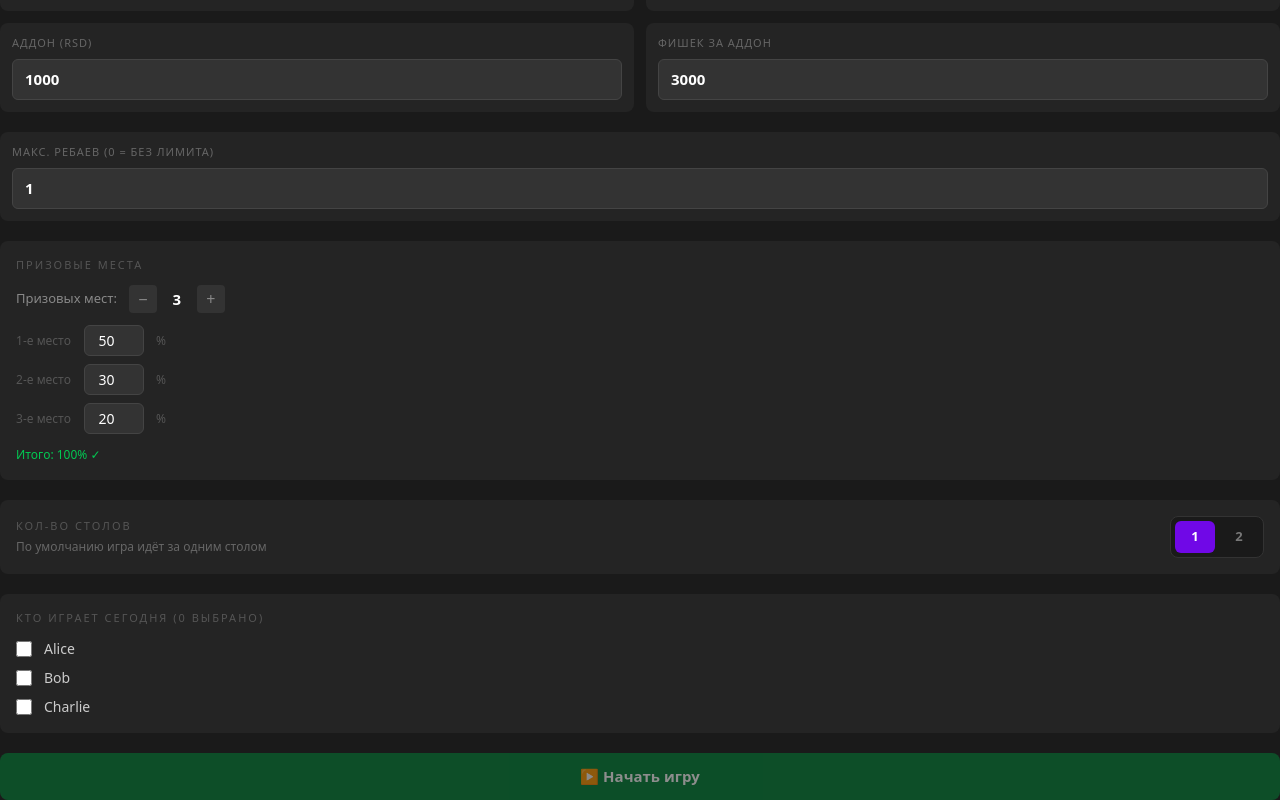
Test case: SessionSetup › selecting 2 players enables start button
(page scrolled)
Click the checkbox labelled "Alice": [24, 648] box [16,640,32,656]
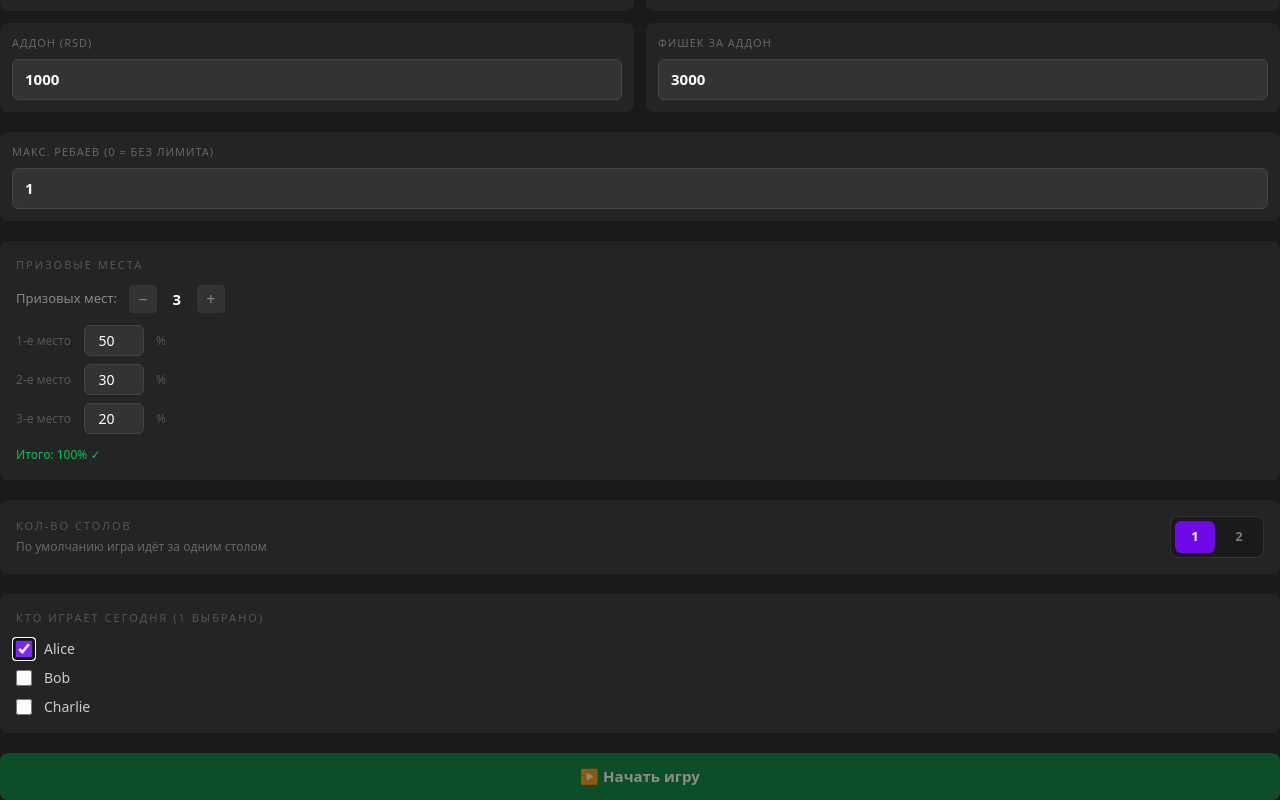
Click the checkbox labelled "Bob": [24, 678] box [16,670,32,686]
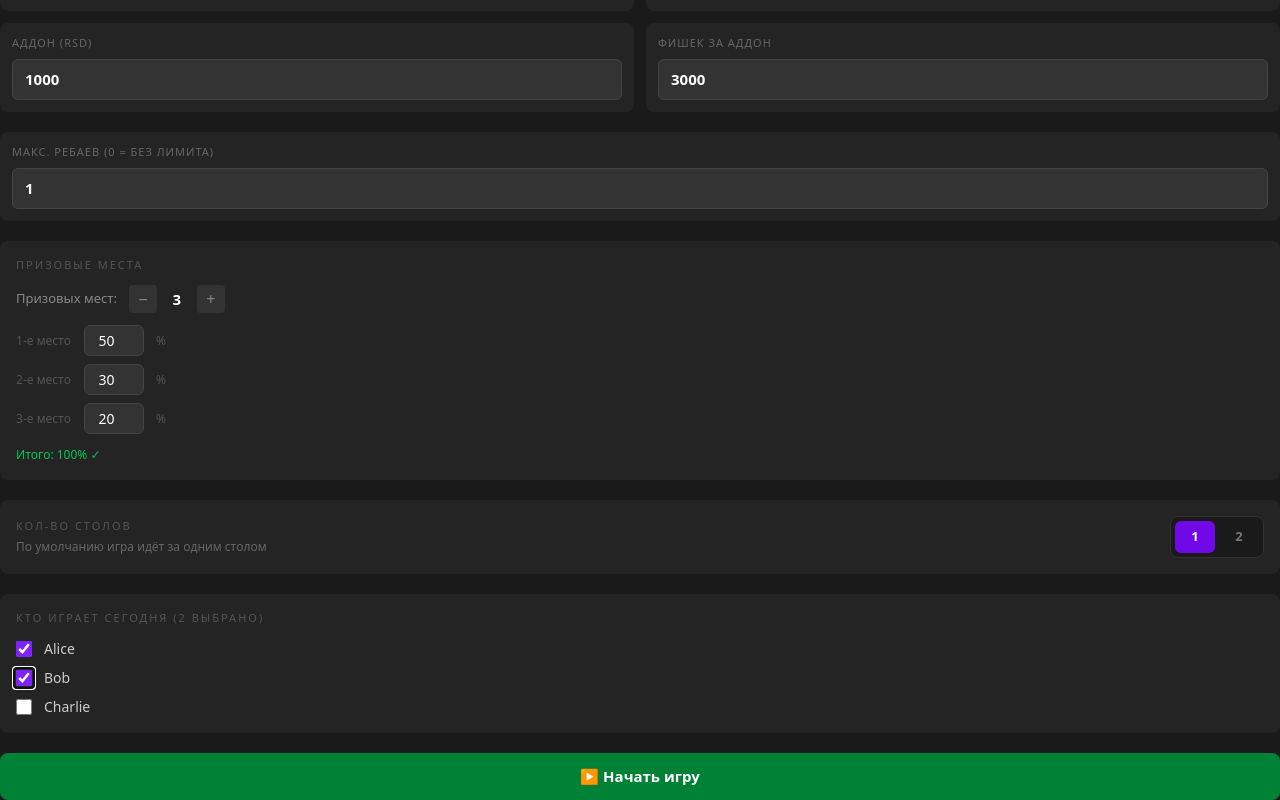
Check: the button "▶ Начать игру" is enabled, box [0,753,1279,799]
